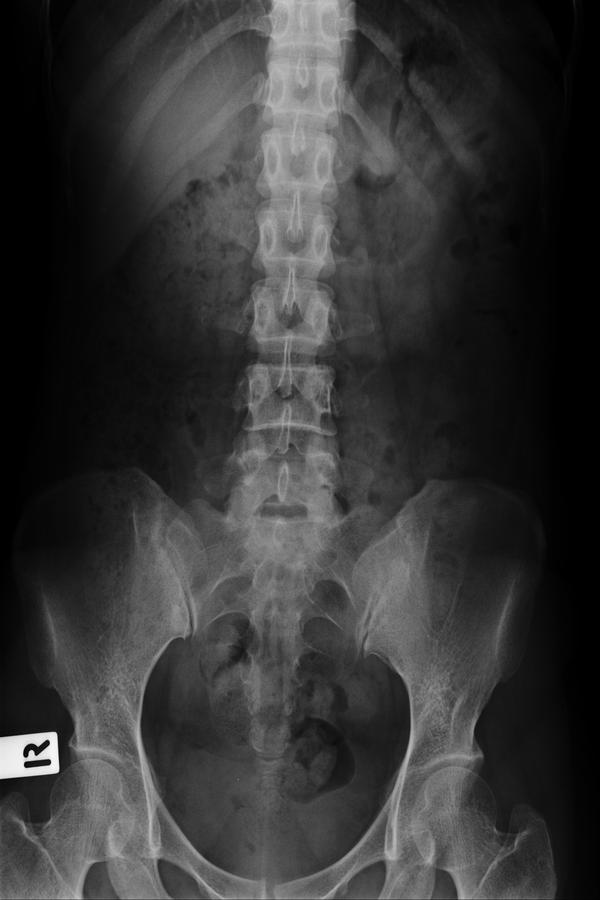lumbar scoliosis: (228, 6, 345, 558)
